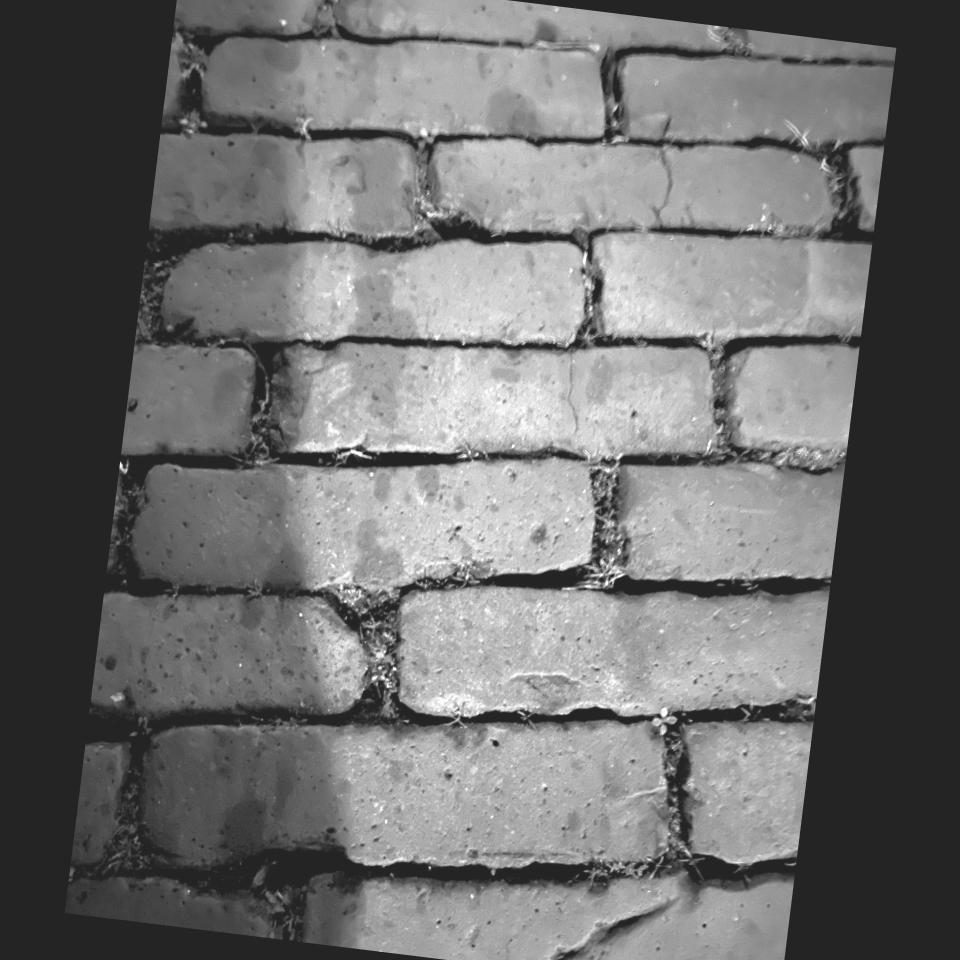weed: (578, 454, 624, 589), (96, 772, 150, 877), (356, 588, 400, 716), (674, 443, 846, 473), (161, 28, 207, 135), (695, 333, 729, 448), (574, 856, 662, 888), (326, 220, 379, 246), (399, 214, 438, 241), (574, 316, 601, 347), (312, 2, 335, 37), (652, 707, 677, 735), (418, 126, 438, 149)
